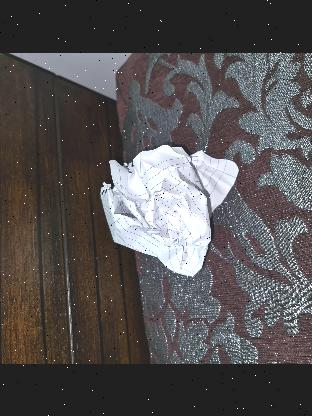Others: (100, 142, 238, 270)
